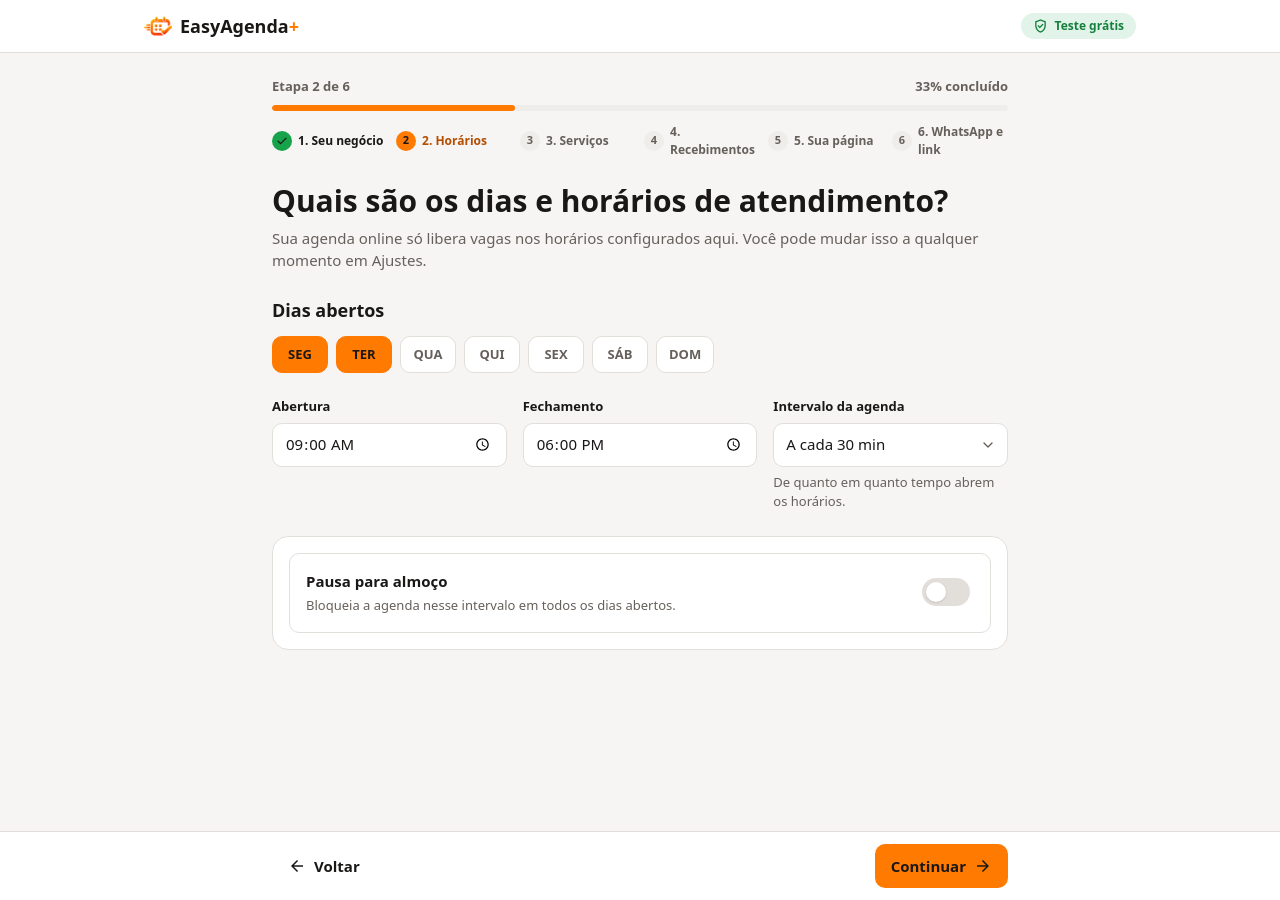
Test case: OnboardingFlow › voltar da etapa 2 mostra a etapa 1 sem salvar
Click the button "Voltar".
click(324, 866)  # box [272,844,376,888]
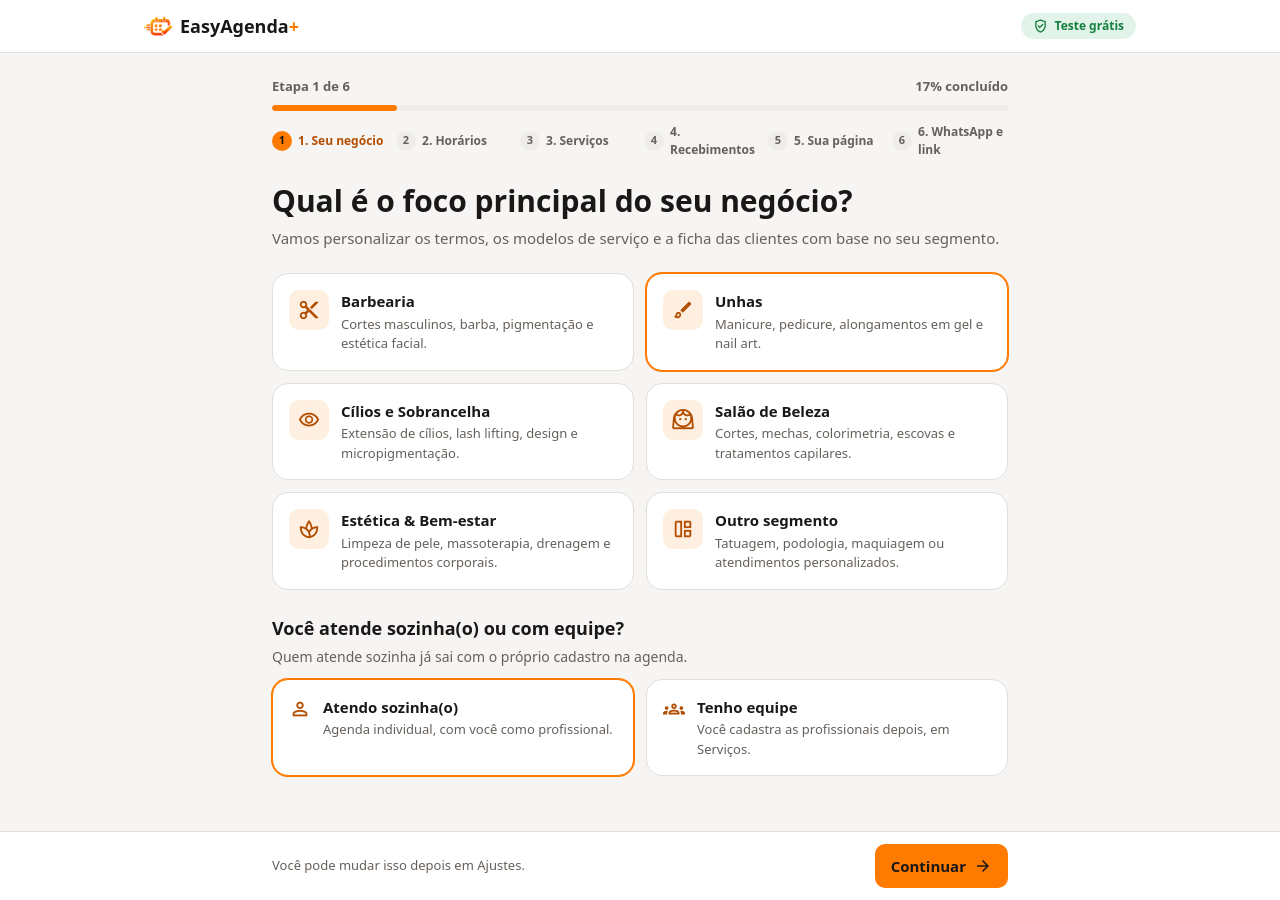
Expected: the heading "Qual é o foco principal do seu negócio?" is shown, [272,180,853,220]
